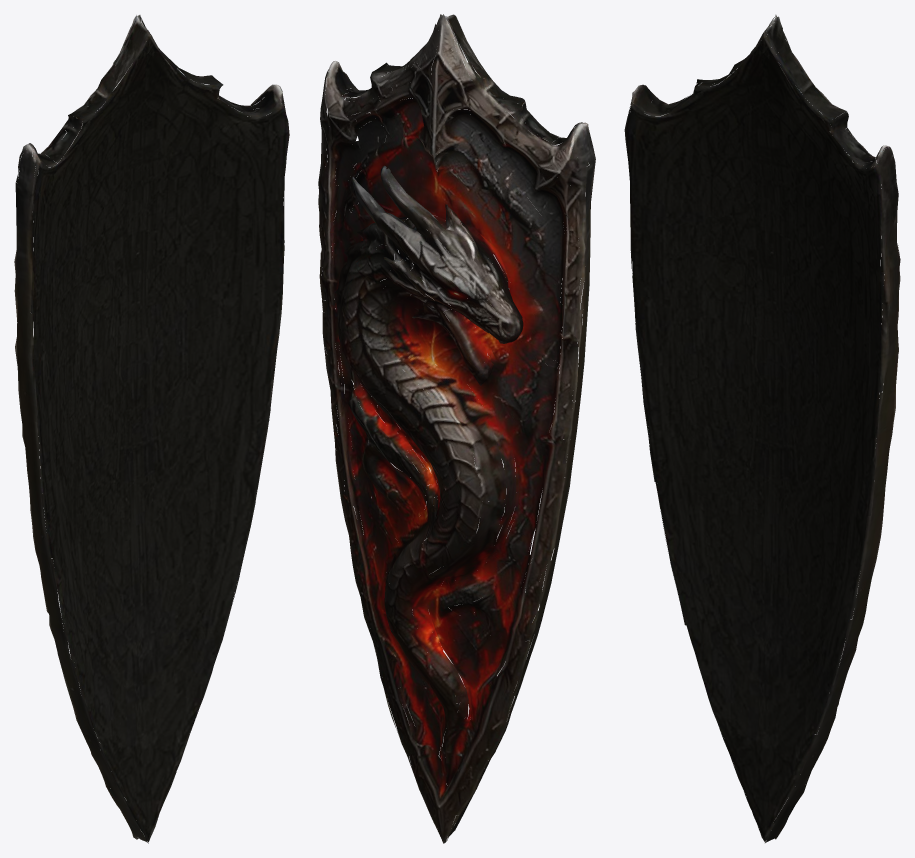
File: kite_ember.glb
3 views of the same model, side by side, from view 1: azimuth 30°, elevation 25°; view 2: azimuth 150°, elevation 25°; view 3: azimuth 330°, elevation 25° (orthographic).
Parts seen in each view (by area): view 1: kite_ember; view 2: kite_ember; view 3: kite_ember.
Part boxes in pixels (bbox=[...]): kite_ember: bbox=[14, 15, 289, 843]; kite_ember: bbox=[318, 14, 595, 843]; kite_ember: bbox=[624, 14, 900, 842].
Size of the model in its own units: 0.334 by 0.9875 by 0.1168.
1 material, 1 textured.
